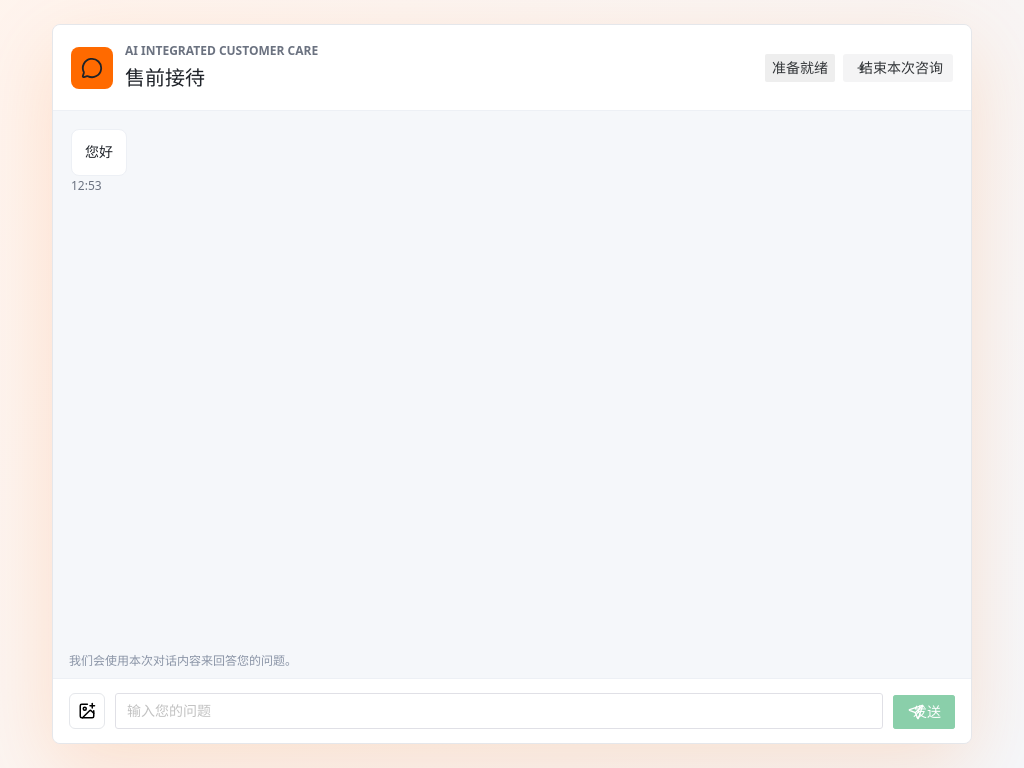
PublicAICCChatPage › keeps an offered lead form visible when persistence fails
The width and height of the screenshot is (1024, 768).
Type "继续咨询" into the text box with placeholder "输入您的问题" at (499, 711), box x1=127 y1=693 x2=871 y2=729
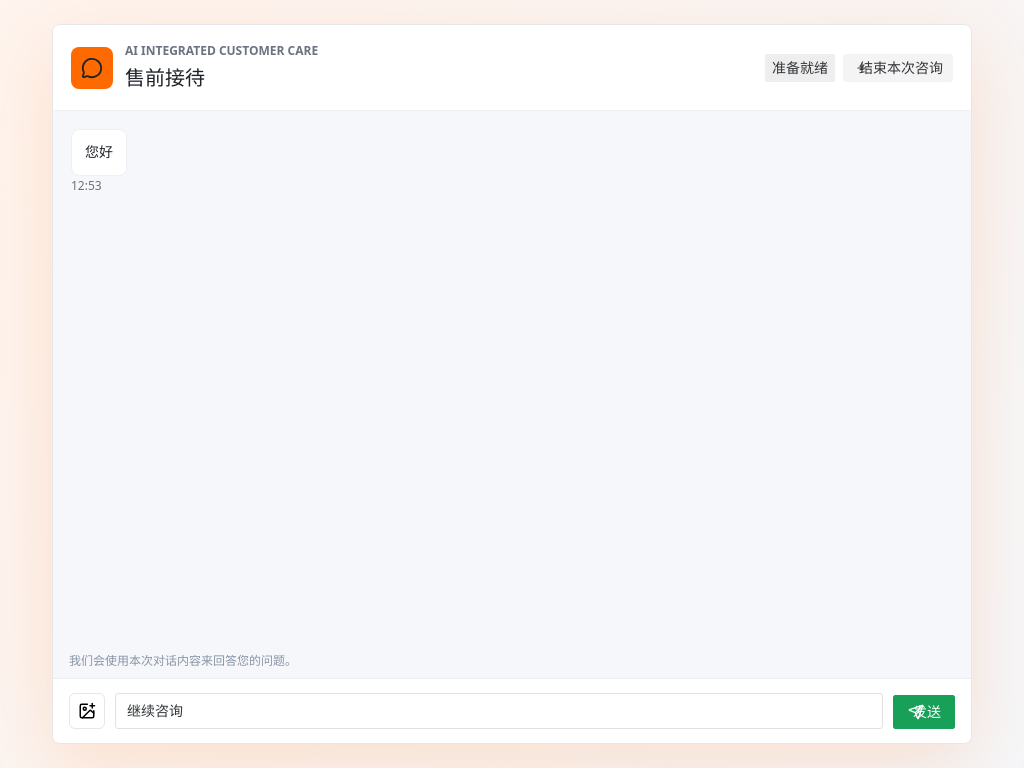
Submit the form with class "composer", box x1=53 y1=678 x2=971 y2=743
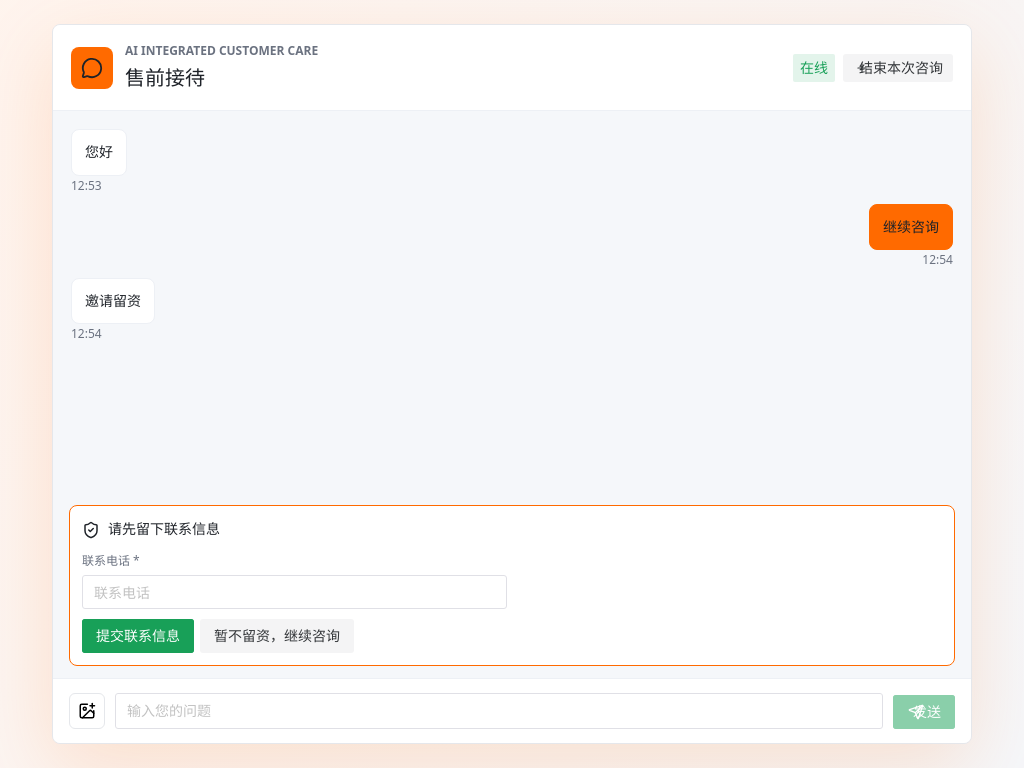
Type "13900139000" into the field labelled "联系电话 * 联系电话" at (294, 592), box x1=94 y1=575 x2=495 y2=609
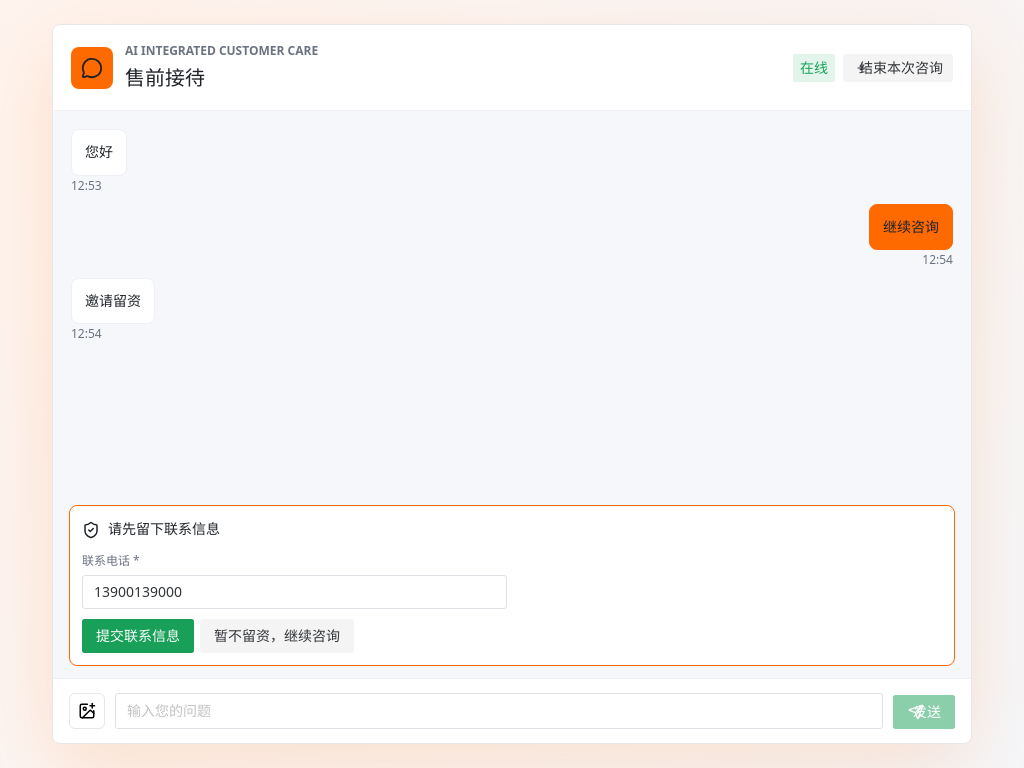
Submit the form with class "lead-gate", box x1=69 y1=505 x2=955 y2=666
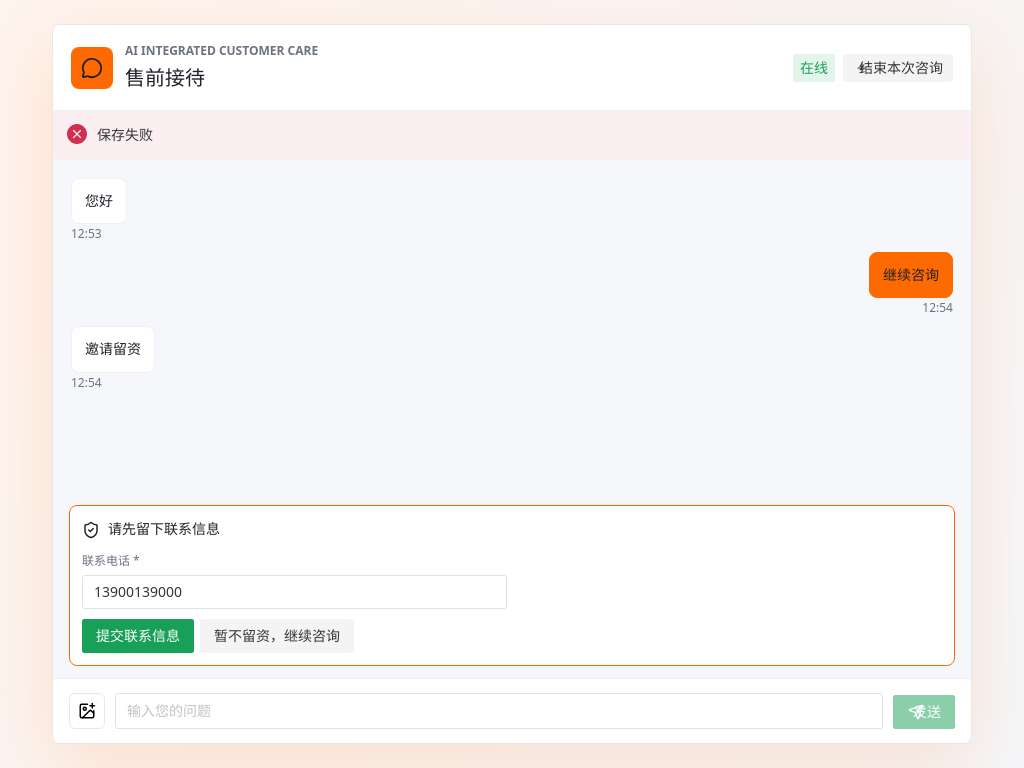
Expected: the form with class "lead-gate" is shown, x1=69 y1=505 x2=955 y2=666
Expected: the text "保存失败" is shown, x1=97 y1=125 x2=153 y2=144
